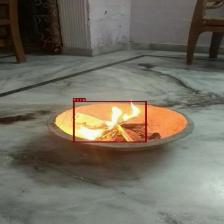fire: (72, 101, 146, 142)
